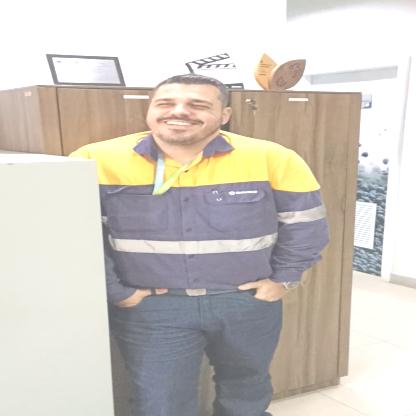Operacional: (62, 127, 339, 304)
